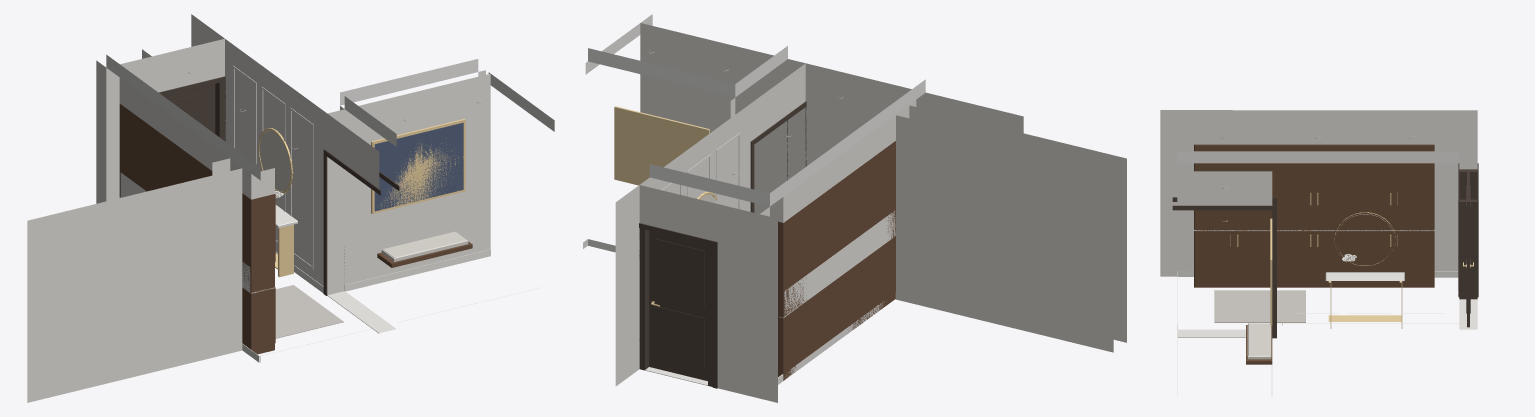
File: ENTRY.glb
The picture shows the model from 3 angles, left to right: view 1: azimuth 30°, elevation 25°; view 2: azimuth 150°, elevation 25°; view 3: azimuth 270°, elevation 25°; orthographic projection. The views are drawn at different scales.
Visible parts, largest first — view 1: WEB_ENTRY; view 2: WEB_ENTRY; view 3: WEB_ENTRY.
Boxes of the visible parts, x1,y1,x2,y2 form: WEB_ENTRY: (27, 14, 554, 402); WEB_ENTRY: (583, 14, 1126, 402); WEB_ENTRY: (1160, 110, 1478, 396).
Size of the model in its own units: 8 by 3 by 5.56.
